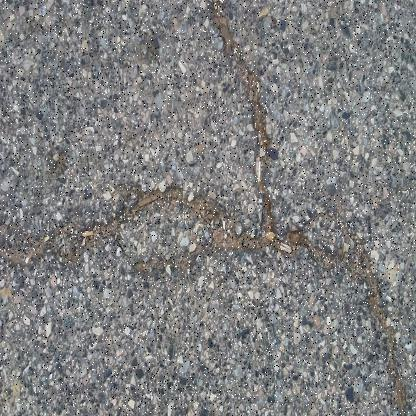Cracks: (0, 175, 410, 415), (209, 0, 278, 241)
